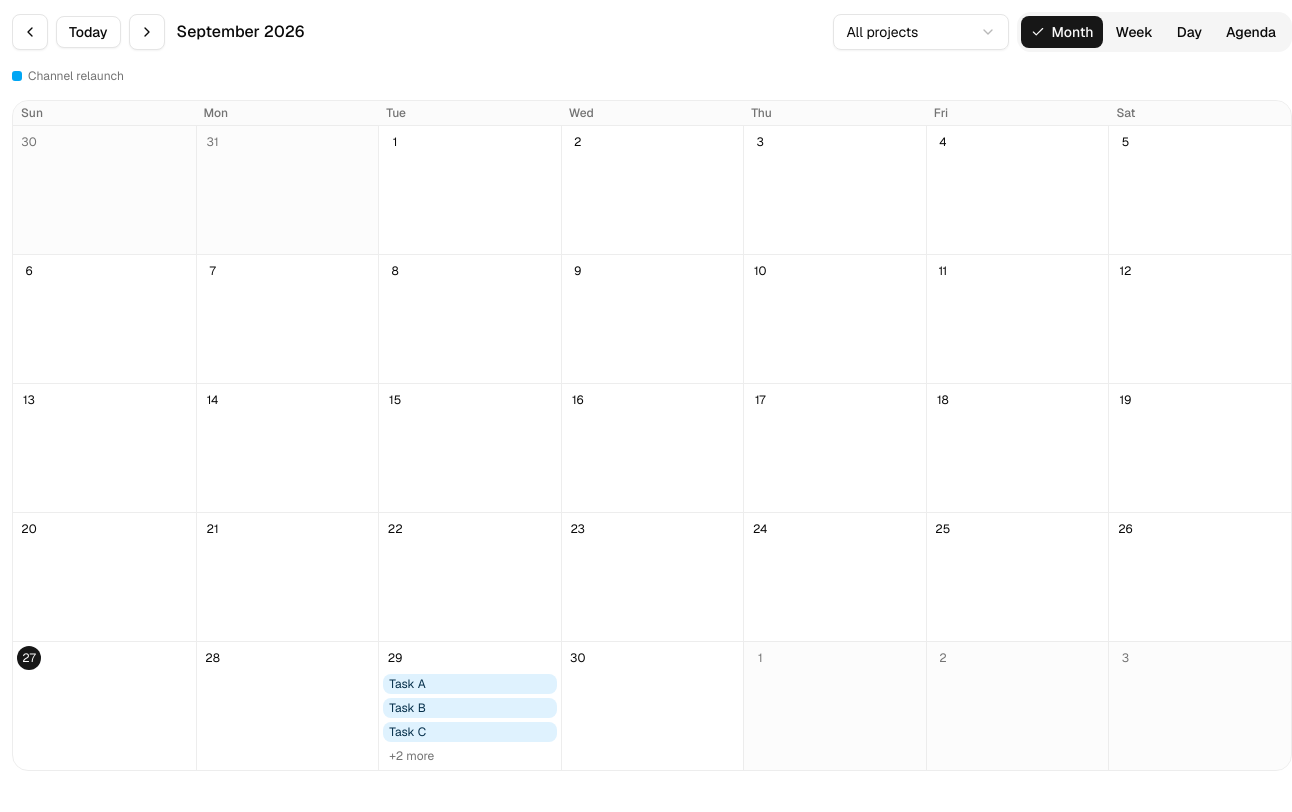
Test case: HubCalendar › caps a busy month day at three chips and opens that day from +N more
Click the button "+2 more" at [470, 756], box top-left (383, 746), bottom-right (557, 766)
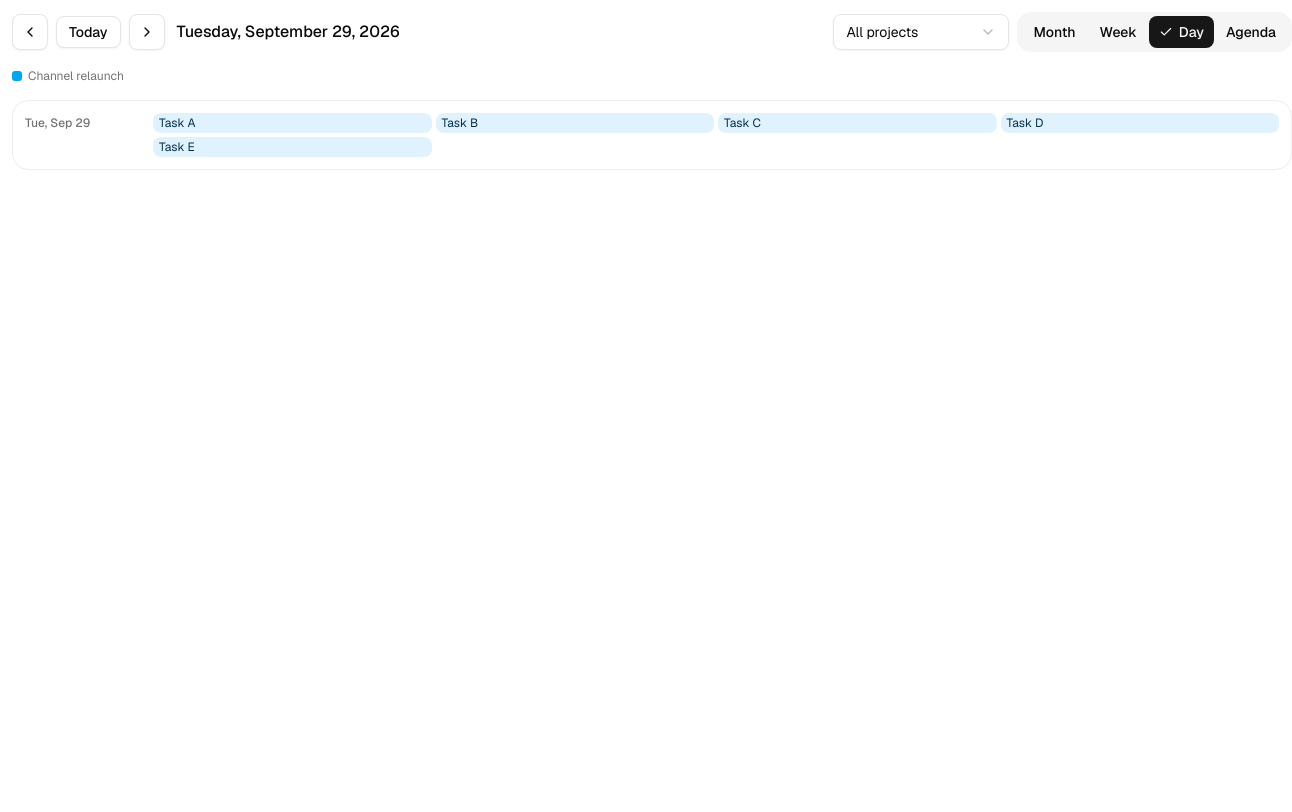
Expected: the button "Task A" is shown, top-left (153, 113), bottom-right (432, 133)
Expected: the heading reads "Tuesday, September 29, 2026", top-left (177, 21), bottom-right (400, 42)
